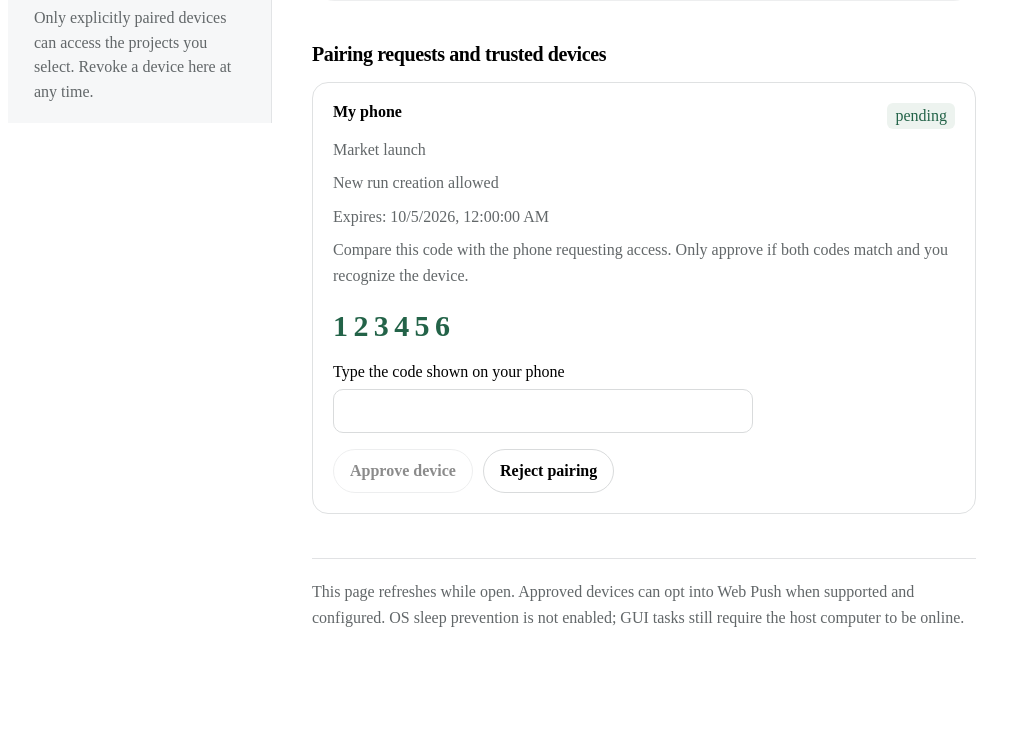
desktop pairing management › rejects an unfamiliar device without approving or supplying a code
(page scrolled)
Click the button "Reject pairing". click: (549, 470)
box: left=483, top=448, right=614, bottom=492
(page scrolled)
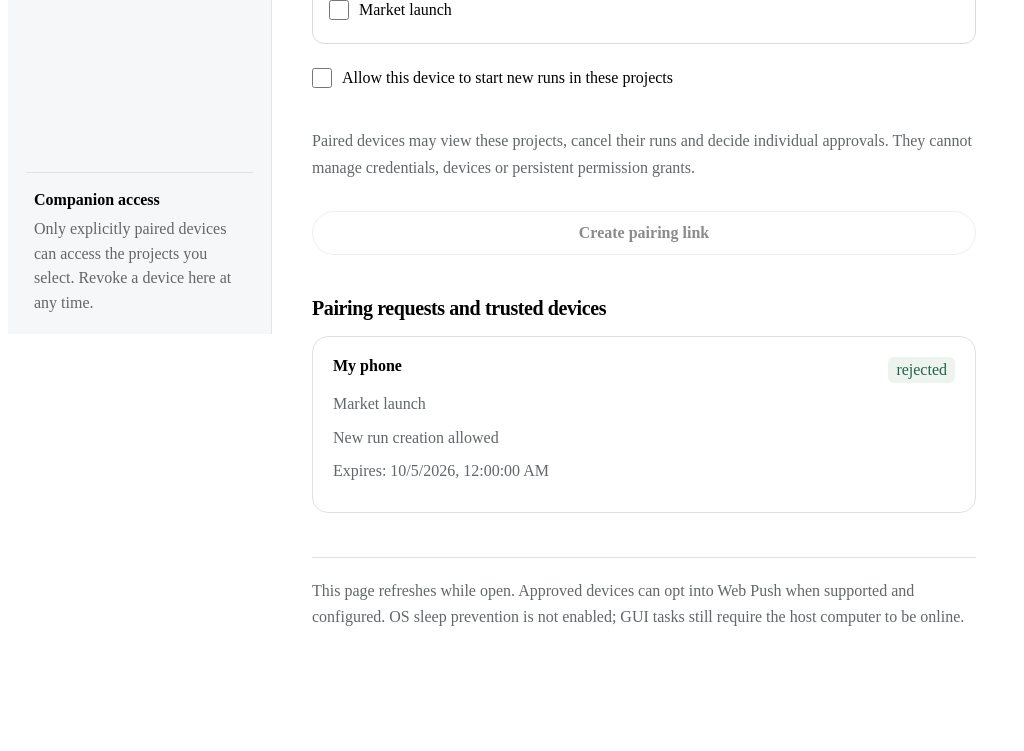
Result: the text "rejected" is shown at left=888, top=357, right=955, bottom=383
